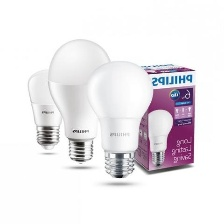carton: (124, 59, 197, 175)
light_bulb: (42, 37, 121, 168), (80, 56, 157, 181), (25, 63, 72, 156)
